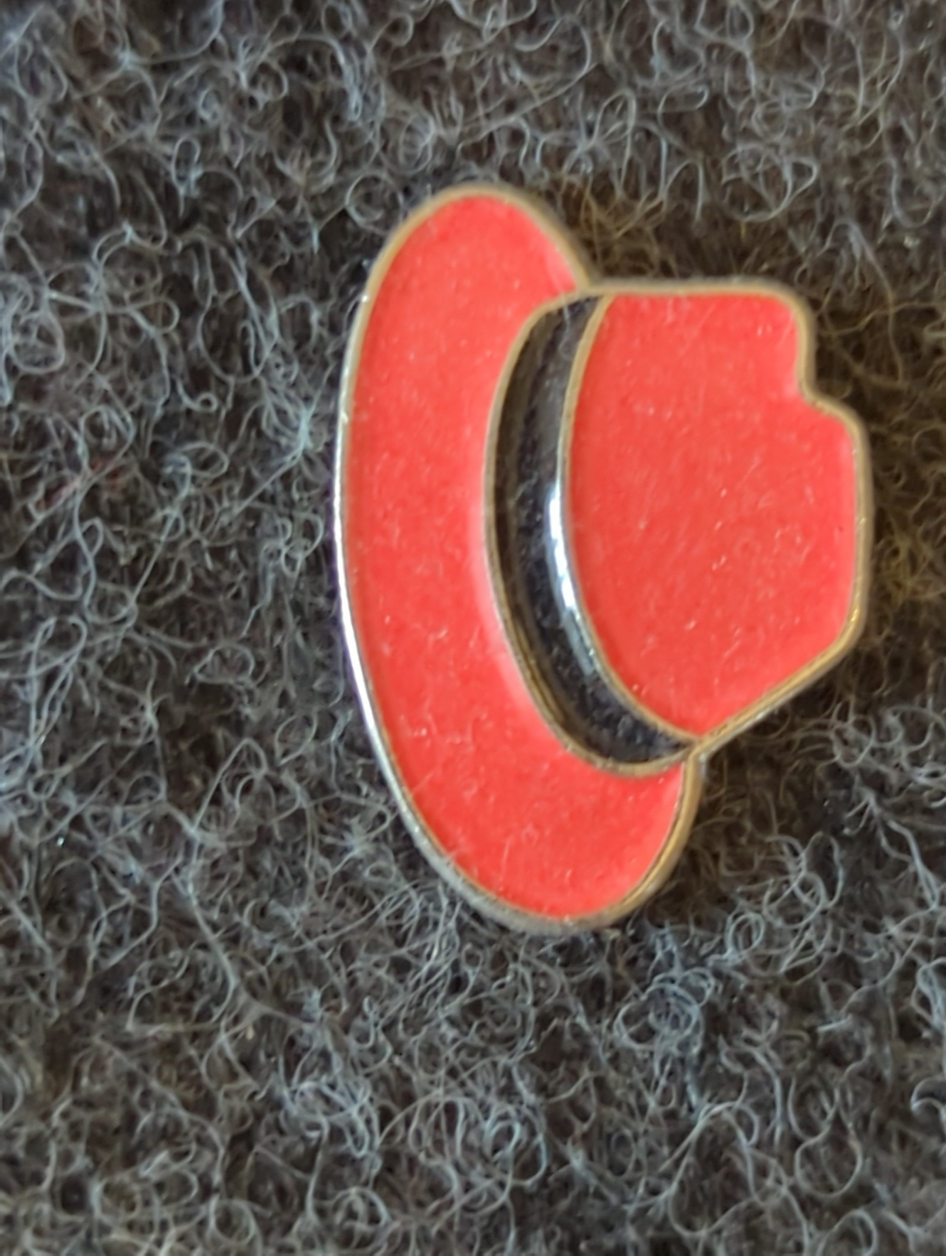Red-Hat: (221, 29, 946, 1112)
